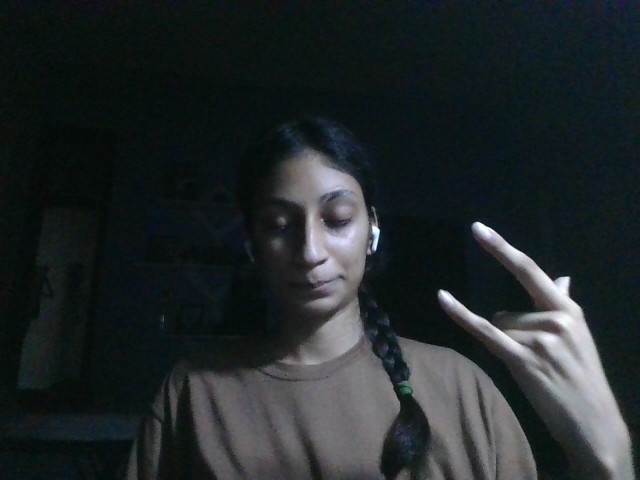i love you: (433, 218, 614, 434)
